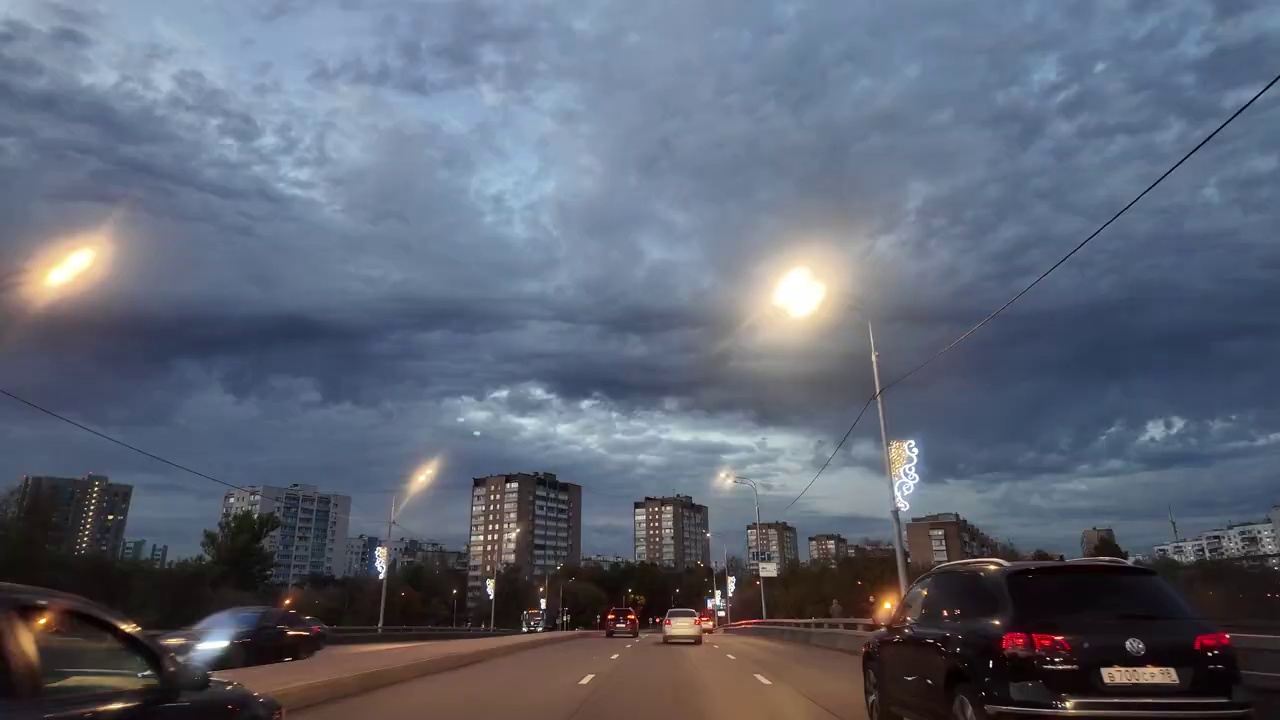acesa: (25, 238, 108, 304), (768, 261, 828, 326), (403, 460, 441, 501), (711, 466, 739, 497)
